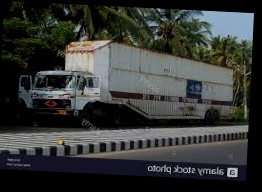truck: (17, 36, 236, 135)
